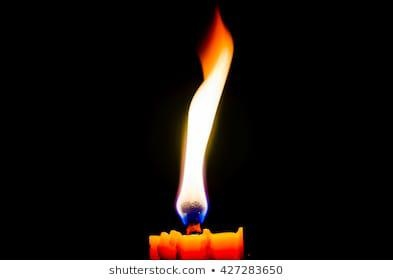fire: (174, 6, 240, 230)
